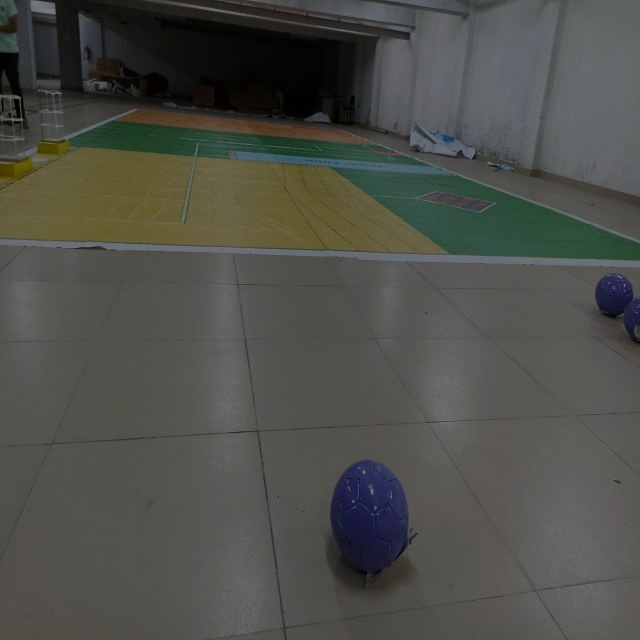purple_ball: (334, 461, 408, 580), (597, 273, 634, 315), (624, 292, 639, 344)
